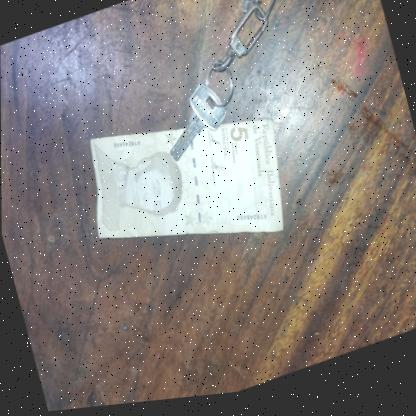five-front-vef: (73, 80, 300, 296)
